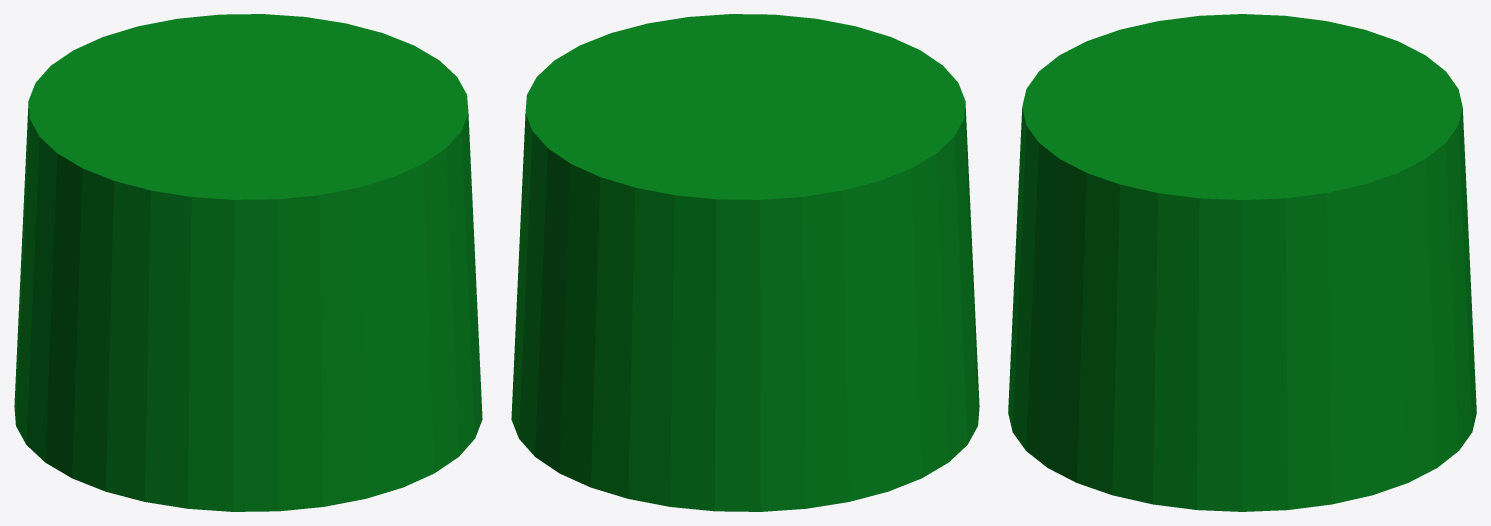
File: green_cylinder.obj
3 renders of one model, left to right at view 1: azimuth 30°, elevation 25°; view 2: azimuth 150°, elevation 25°; view 3: azimuth 270°, elevation 25°, orthographic.
Visible parts, largest first — view 1: green_cylinder_Cylinder.003; view 2: green_cylinder_Cylinder.003; view 3: green_cylinder_Cylinder.003.
Boxes of the visible parts, box(x1,y1,x2,y2) form: green_cylinder_Cylinder.003: box(14, 14, 482, 511); green_cylinder_Cylinder.003: box(511, 14, 979, 511); green_cylinder_Cylinder.003: box(1008, 14, 1476, 511).
Bounding box in the file's own units: 0.0901 × 0.0649 × 0.0901.
